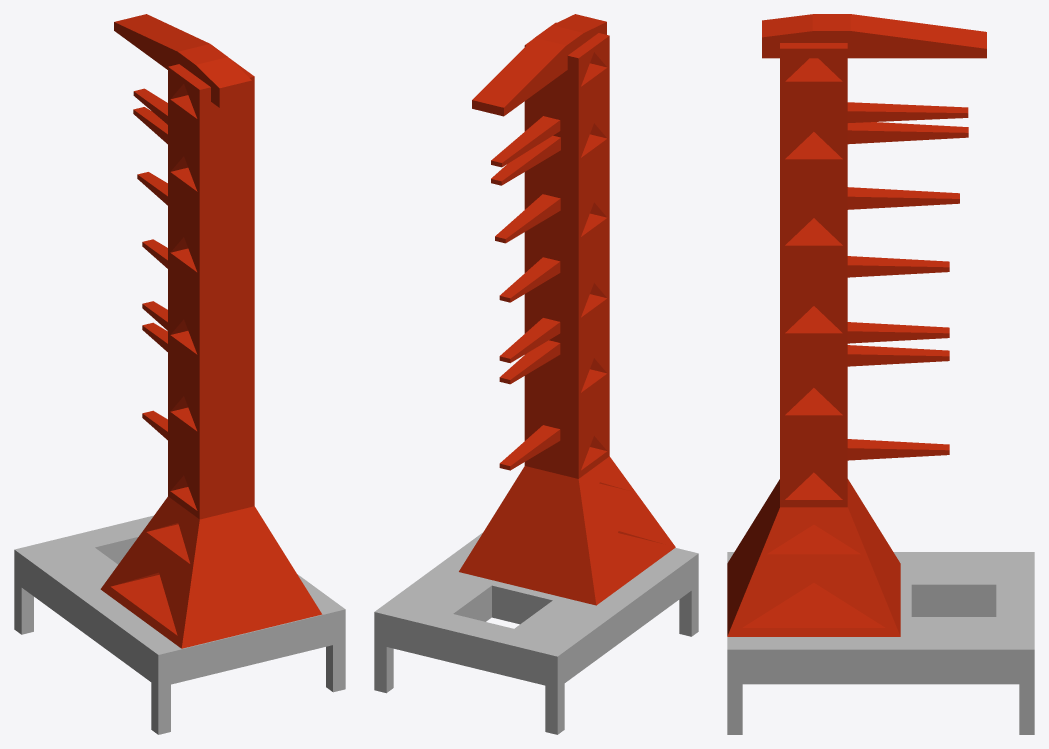
File: Nova Tower and MLP.fbx
The picture shows the model from 3 angles, left to right: view 1: azimuth 30°, elevation 25°; view 2: azimuth 150°, elevation 25°; view 3: azimuth 270°, elevation 25°; orthographic projection. The views are drawn at different scales.
Parts seen in each view (by area): view 1: Nova Tower and MLP; view 2: Nova Tower and MLP; view 3: Nova Tower and MLP.
Part boxes in pixels (x1,y1,x2,y2): Nova Tower and MLP: [14, 14, 345, 734]; Nova Tower and MLP: [374, 14, 698, 734]; Nova Tower and MLP: [727, 14, 1034, 734].
Bounding box in the file's own units: 625 × 1984 × 833.
